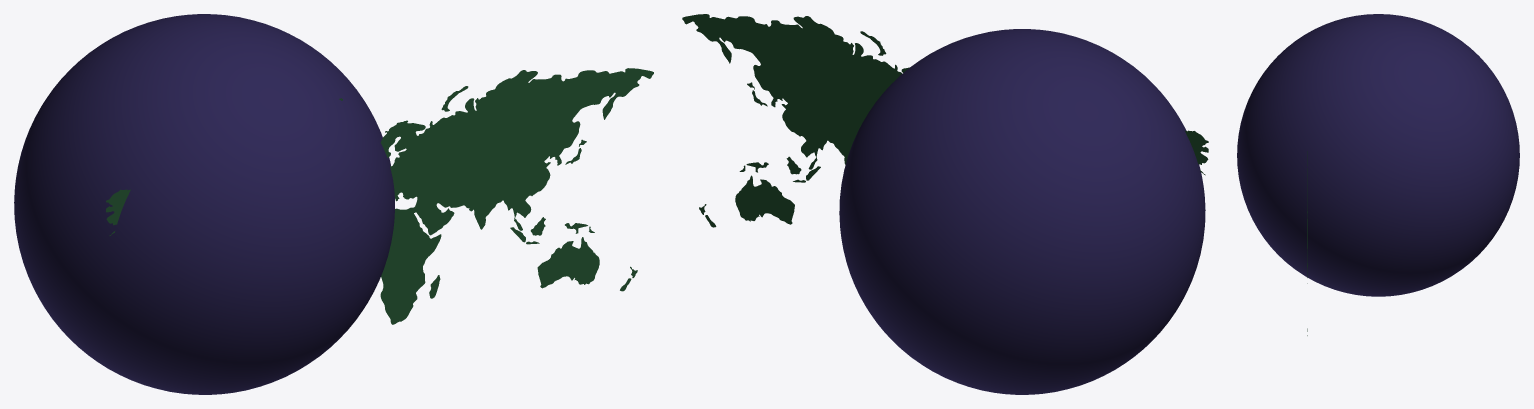
File: planet_v2.glb
3 renders of one model, left to right at view 1: azimuth 30°, elevation 25°; view 2: azimuth 150°, elevation 25°; view 3: azimuth 270°, elevation 25°, orthographic. The views are drawn at different scales.
Visible parts, largest first — view 1: Icosphere, map; view 2: Icosphere, map; view 3: Icosphere.
Part boxes in pixels (x1=…): Icosphere: x1=14, y1=14, x2=394, y2=394; map: x1=106, y1=68, x2=653, y2=324; Icosphere: x1=839, y1=29, x2=1205, y2=394; map: x1=682, y1=14, x2=1208, y2=227; Icosphere: x1=1237, y1=14, x2=1519, y2=296.
Size of the model in its own units: 7.51 by 4.37 by 4.37.
